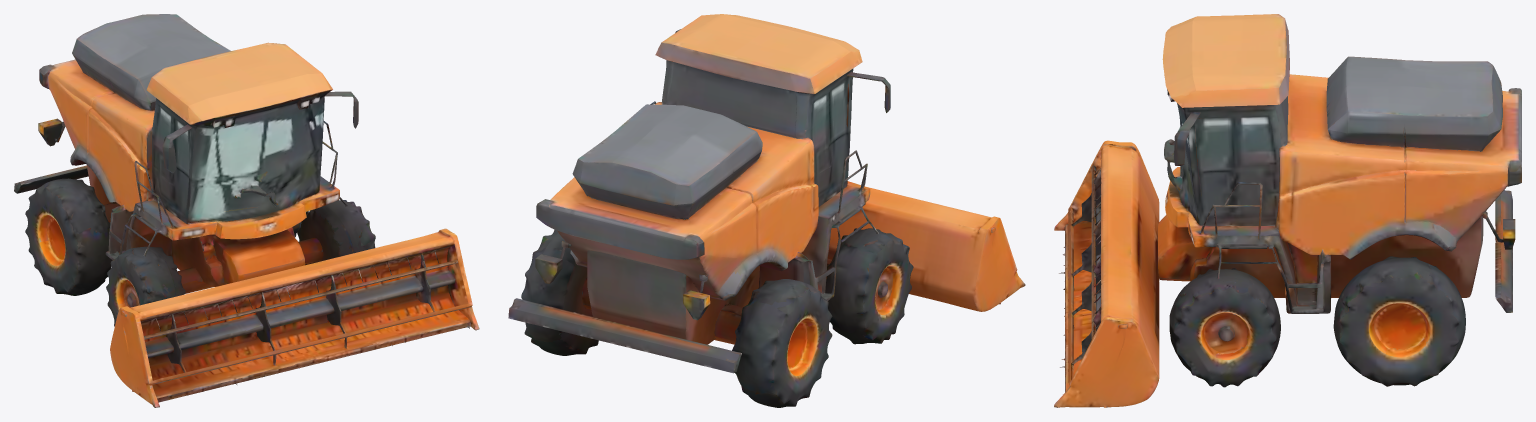
Rendered from combine_shaded.glb.
3 renders of one model, left to right at view 1: azimuth 30°, elevation 25°; view 2: azimuth 150°, elevation 25°; view 3: azimuth 270°, elevation 25°, orthographic. The views are drawn at different scales.
Parts seen in each view (by area): view 1: model; view 2: model; view 3: model.
Boxes of the visible parts, bbox=[...] form: model: bbox=[14, 14, 479, 407]; model: bbox=[508, 14, 1025, 407]; model: bbox=[1054, 14, 1521, 407].
Size of the model in its own units: 1.72 by 1.24 by 1.88.
1 material, 1 textured.
